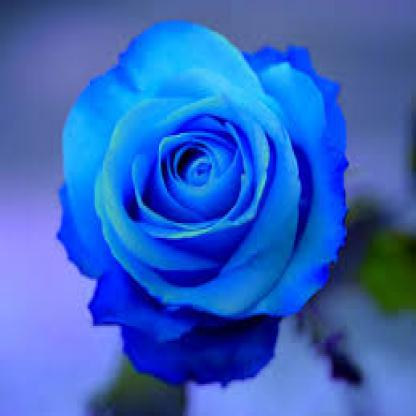Rose-Mawar: (54, 14, 350, 387)
